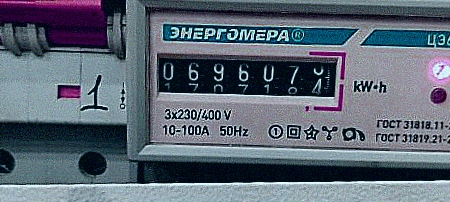0: (260, 61, 276, 83), (160, 60, 175, 81)
4: (310, 76, 323, 97)
6: (185, 60, 200, 81), (235, 62, 250, 82)
7: (285, 64, 301, 85)
9: (210, 61, 224, 82)
screen: (142, 42, 350, 109)
